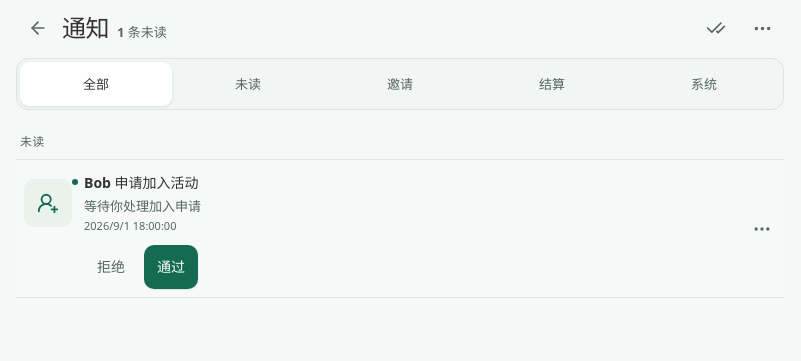
Test: NotificationsPage › 加入申请可在通知内通过，失败时仍保留操作
The image size is (801, 361).
Click the button "通过" at [171, 267], box [144,245,198,289]
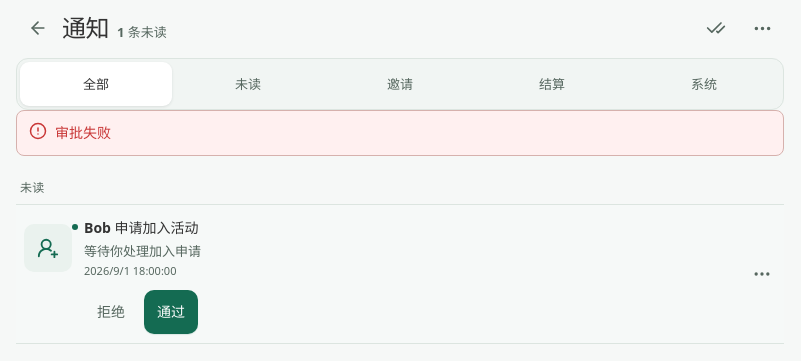
Expected: the button "通过" is shown, [144,291,198,335]
Result: the message reads "审批失败" at [55,123,111,142]
